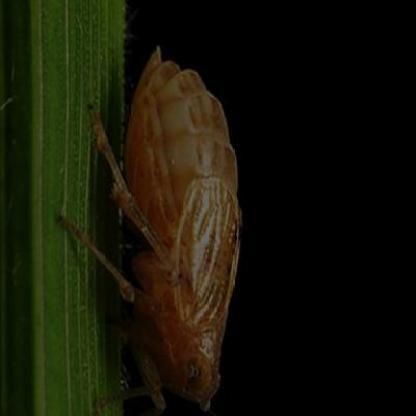brown-planthopper: (106, 43, 246, 403)
